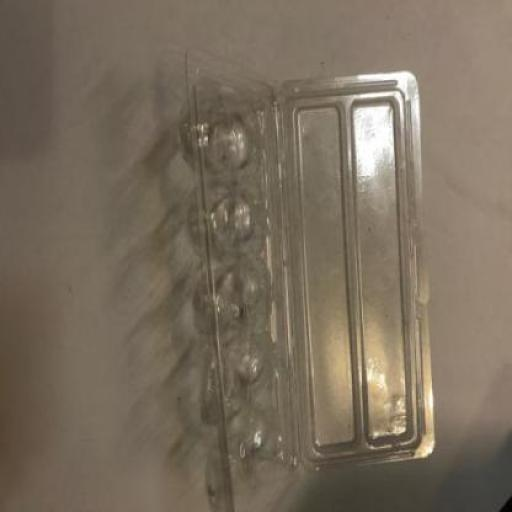plastic: (182, 47, 438, 511), (278, 66, 436, 479)
